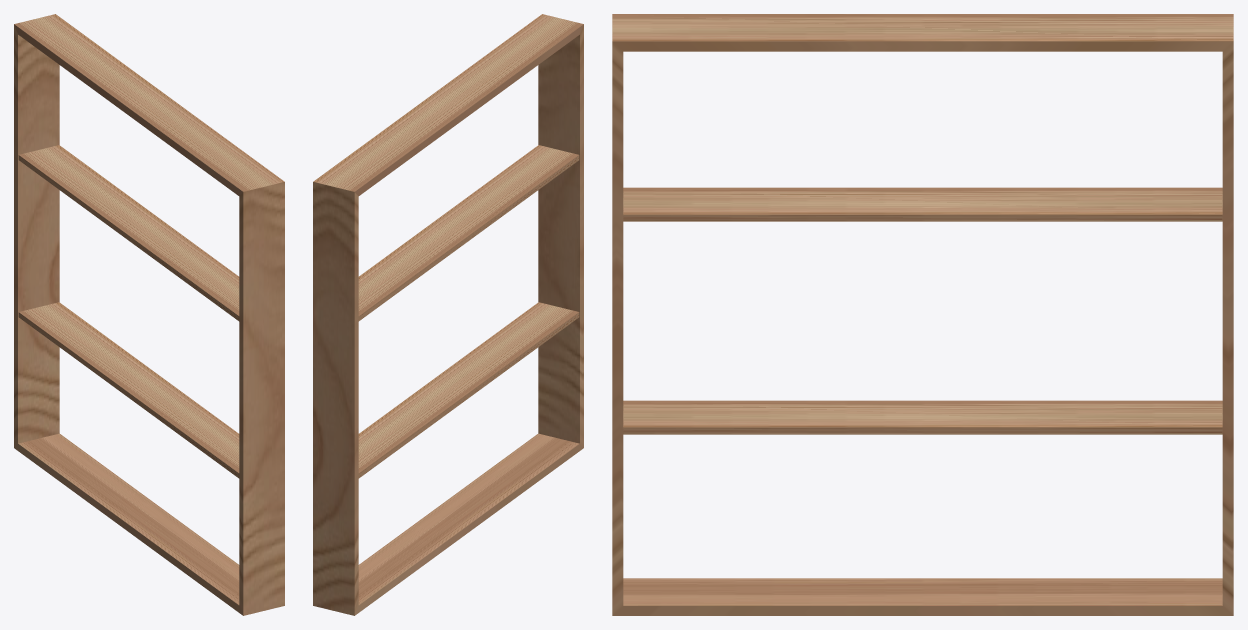
File: wall-shelf.glb
3 renders of one model, left to right at view 1: azimuth 30°, elevation 25°; view 2: azimuth 150°, elevation 25°; view 3: azimuth 270°, elevation 25°, orthographic. The views are drawn at different scales.
Visible parts, largest first — view 1: Cube.007, Cube.009, Cube.008; view 2: Cube.007, Cube.009, Cube.008; view 3: Cube.007, Cube.008, Cube.009.
Boxes of the visible parts, <box> form: Cube.007: <box>14,14,284,615</box>; Cube.009: <box>18,302,239,478</box>; Cube.008: <box>18,145,239,321</box>; Cube.007: <box>313,14,583,615</box>; Cube.009: <box>358,302,579,478</box>; Cube.008: <box>358,145,579,321</box>; Cube.007: <box>612,14,1233,615</box>; Cube.008: <box>623,187,1222,221</box>; Cube.009: <box>623,400,1222,434</box>.
Size of the model in its own units: 0.1824 by 1.78 by 1.74.
1 material, 1 textured.
